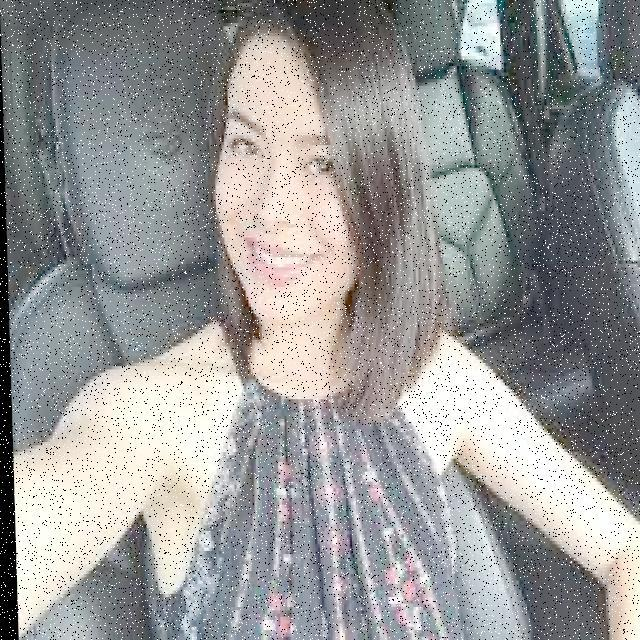noSeatbelt: (95, 319, 494, 640)
